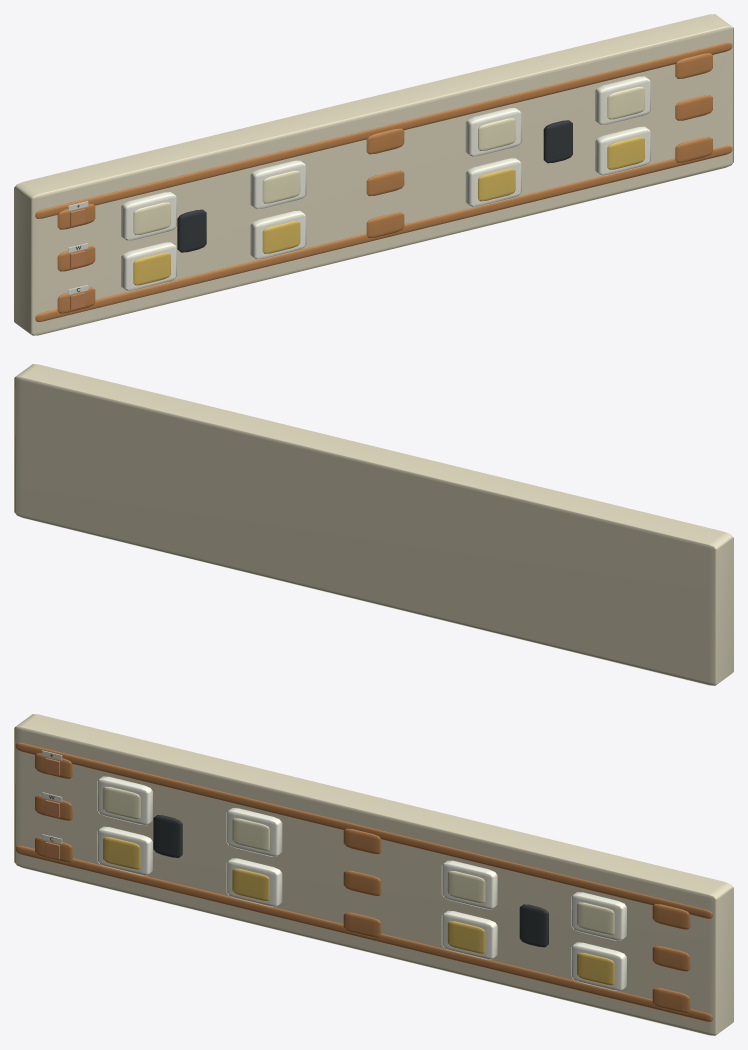
Rendered from cctstrip_default.glb.
The picture shows the model from 3 angles, top to bottom: view 1: azimuth 30°, elevation 25°; view 2: azimuth 150°, elevation 25°; view 3: azimuth 330°, elevation 25°; orthographic projection.
Visible parts, largest first — view 1: node-4, node-3 · Original material.001, node-3 · Original material.002, node-29, node-26, node-35, node-32, node-38, node-20, node-41, node-23, node-30 (+7 smaller); view 2: node-4; view 3: node-4, node-3 · Original material.001, node-3 · Original material.002, node-35, node-32, node-29, node-26, node-20, node-38, node-23, node-41, node-36 (+7 smaller).
Part boxes in pixels (x1=…): node-4: x1=14, y1=14, x2=733, y2=335; node-3 · Original material.001: x1=35, y1=42, x2=732, y2=321; node-3 · Original material.002: x1=177, y1=120, x2=572, y2=252; node-29: x1=250, y1=160, x2=306, y2=209; node-26: x1=250, y1=210, x2=306, y2=259; node-35: x1=465, y1=108, x2=521, y2=156; node-32: x1=465, y1=158, x2=521, y2=206; node-38: x1=595, y1=126, x2=650, y2=175; node-20: x1=121, y1=242, x2=176, y2=291; node-41: x1=595, y1=76, x2=650, y2=125; node-23: x1=121, y1=192, x2=176, y2=240; node-30: x1=262, y1=170, x2=300, y2=203; node-4: x1=14, y1=364, x2=733, y2=685; node-4: x1=14, y1=714, x2=733, y2=1035; node-3 · Original material.001: x1=15, y1=742, x2=712, y2=1021; node-3 · Original material.002: x1=153, y1=815, x2=548, y2=947; node-35: x1=441, y1=860, x2=497, y2=909; node-32: x1=441, y1=910, x2=497, y2=959; node-29: x1=226, y1=808, x2=282, y2=856; node-26: x1=226, y1=858, x2=282, y2=906; node-20: x1=97, y1=826, x2=152, y2=875; node-38: x1=571, y1=942, x2=626, y2=991; node-23: x1=97, y1=776, x2=152, y2=825; node-41: x1=571, y1=892, x2=626, y2=940; node-36: x1=447, y1=870, x2=485, y2=903.
Bounding box in the file's own units: 2.06 × 0.396 × 0.1253.
